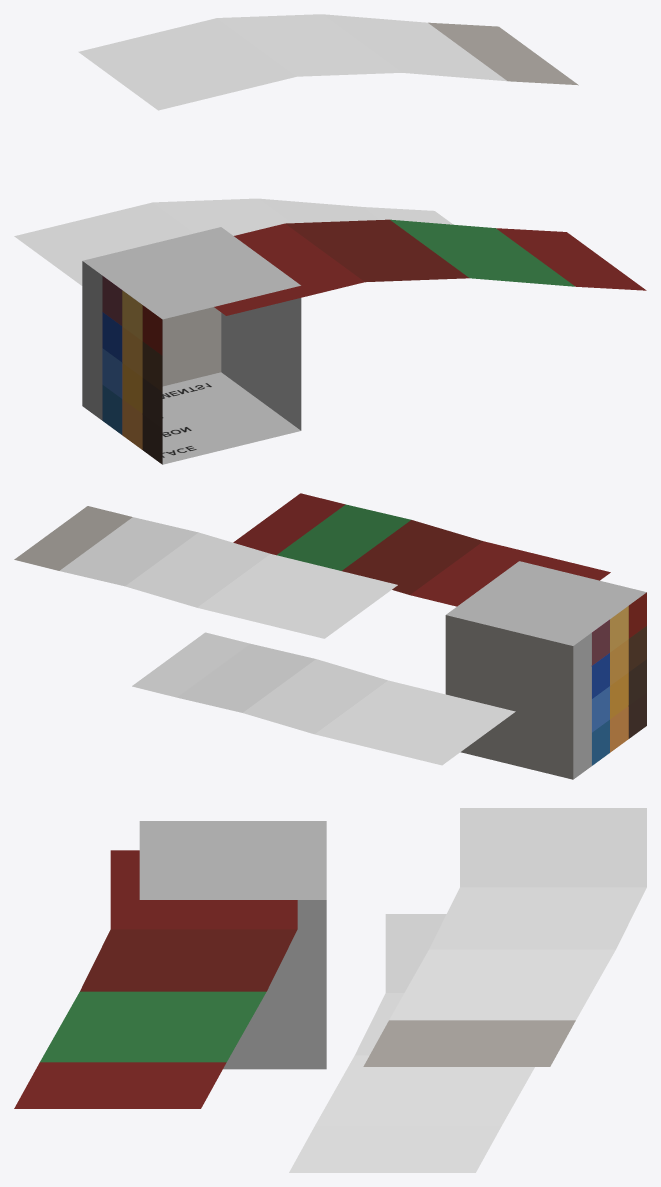
3 views of the same model, one above another, from view 1: azimuth 30°, elevation 25°; view 2: azimuth 150°, elevation 25°; view 3: azimuth 270°, elevation 25° (orthographic). The views are drawn at different scales.
Visible parts, largest first — view 1: __Cube; view 2: __Cube; view 3: __Cube.
Part boxes in pixels (<box>): __Cube: <box>14,14,646,464</box>; __Cube: <box>14,493,646,779</box>; __Cube: <box>14,808,646,1172</box>.
Size of the model in its own units: 7.38 by 3.04 by 6.77.
